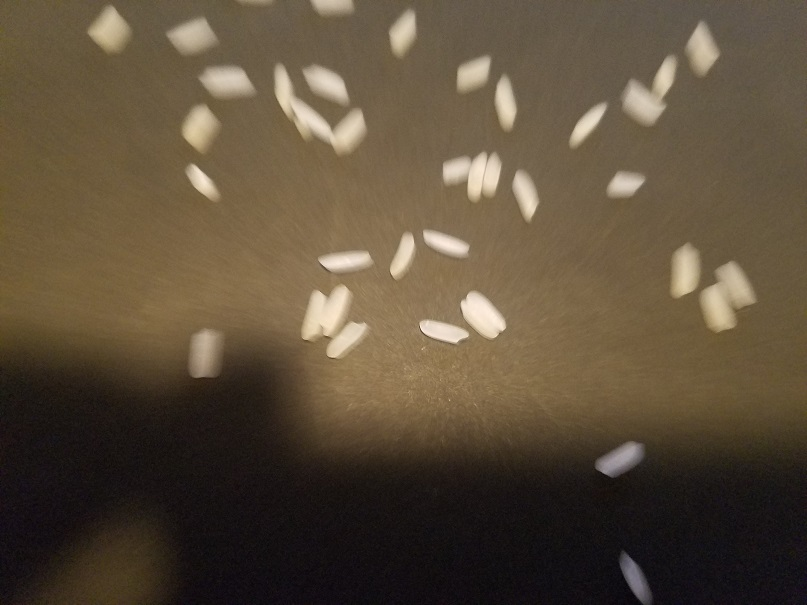egg: (288, 94, 334, 145), (565, 100, 609, 149), (305, 61, 350, 105), (595, 440, 642, 480), (319, 282, 353, 337), (458, 298, 501, 341), (202, 65, 256, 99), (468, 290, 508, 334), (421, 226, 473, 259), (387, 7, 419, 59), (720, 259, 756, 305), (326, 321, 368, 360), (618, 554, 651, 603), (510, 168, 539, 223), (704, 282, 737, 330), (494, 73, 519, 135), (316, 249, 375, 275), (417, 317, 471, 345), (299, 291, 328, 343), (331, 109, 362, 155), (85, 4, 119, 45), (387, 231, 416, 278), (274, 60, 297, 118), (186, 164, 221, 202), (627, 79, 667, 112), (606, 170, 648, 201), (652, 51, 678, 101), (466, 149, 487, 208), (179, 103, 209, 142), (484, 148, 505, 200), (441, 155, 472, 189), (677, 244, 695, 297), (166, 15, 209, 37), (698, 21, 720, 60), (199, 327, 215, 378), (308, 1, 357, 15), (457, 55, 489, 75)
